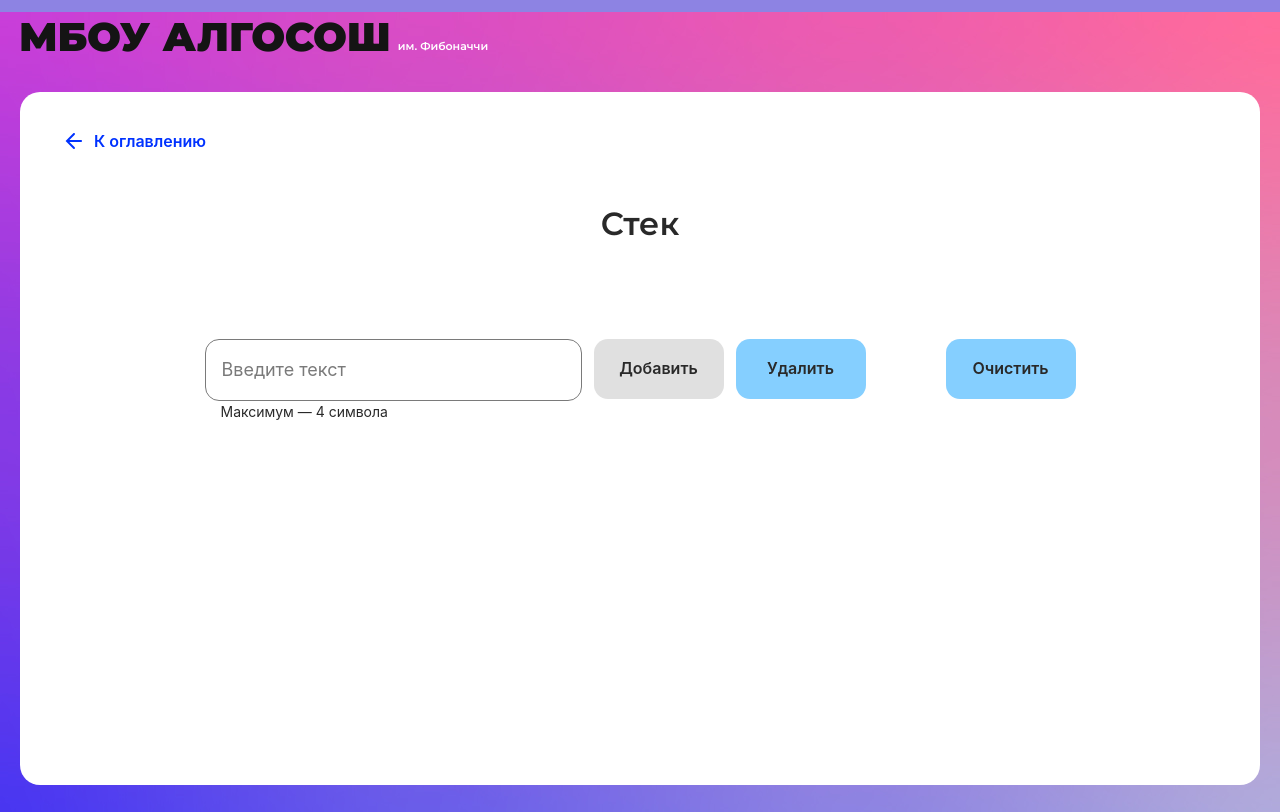
Test case: Stack Page › Проверка удаления элемента из стека
In the field with placeholder "Введите текст": (394, 370) [205,339,582,401], type "A"
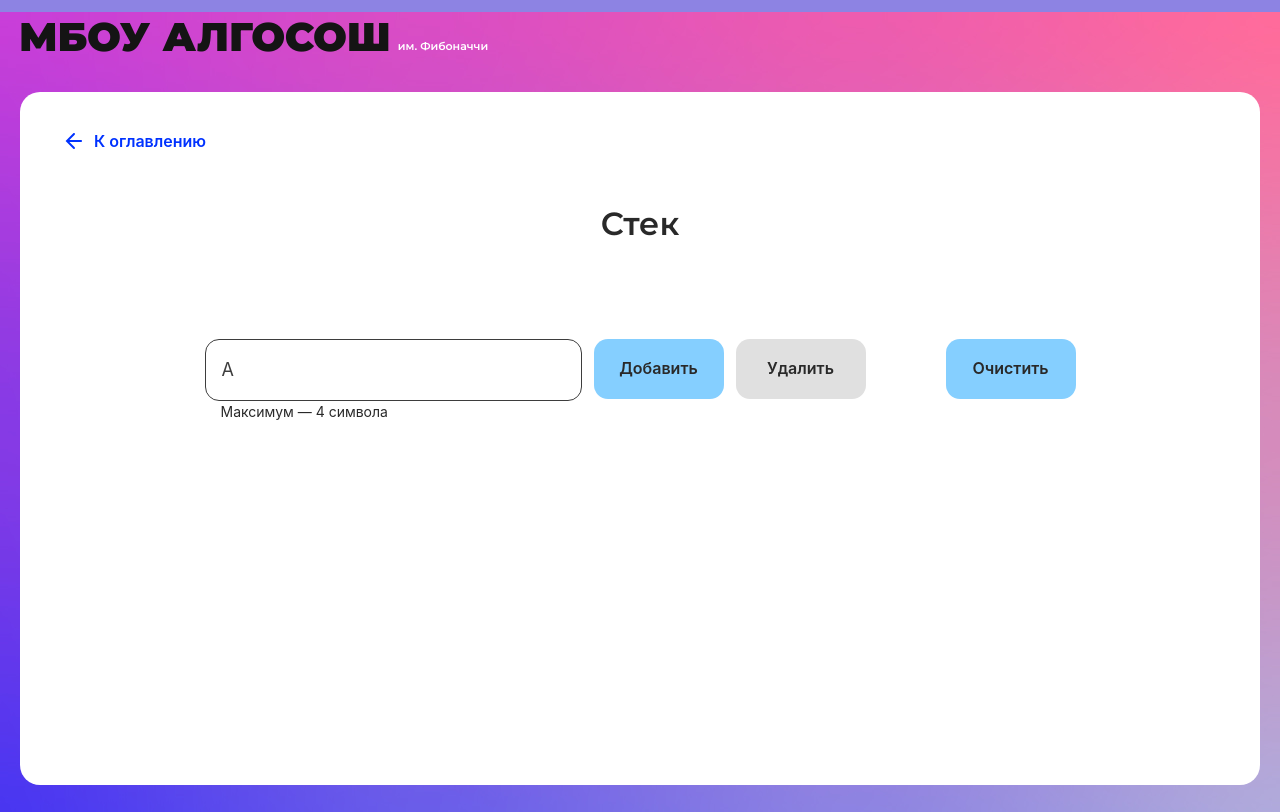
Click the button with test id "addToStack": (659, 369) [594,339,724,399]
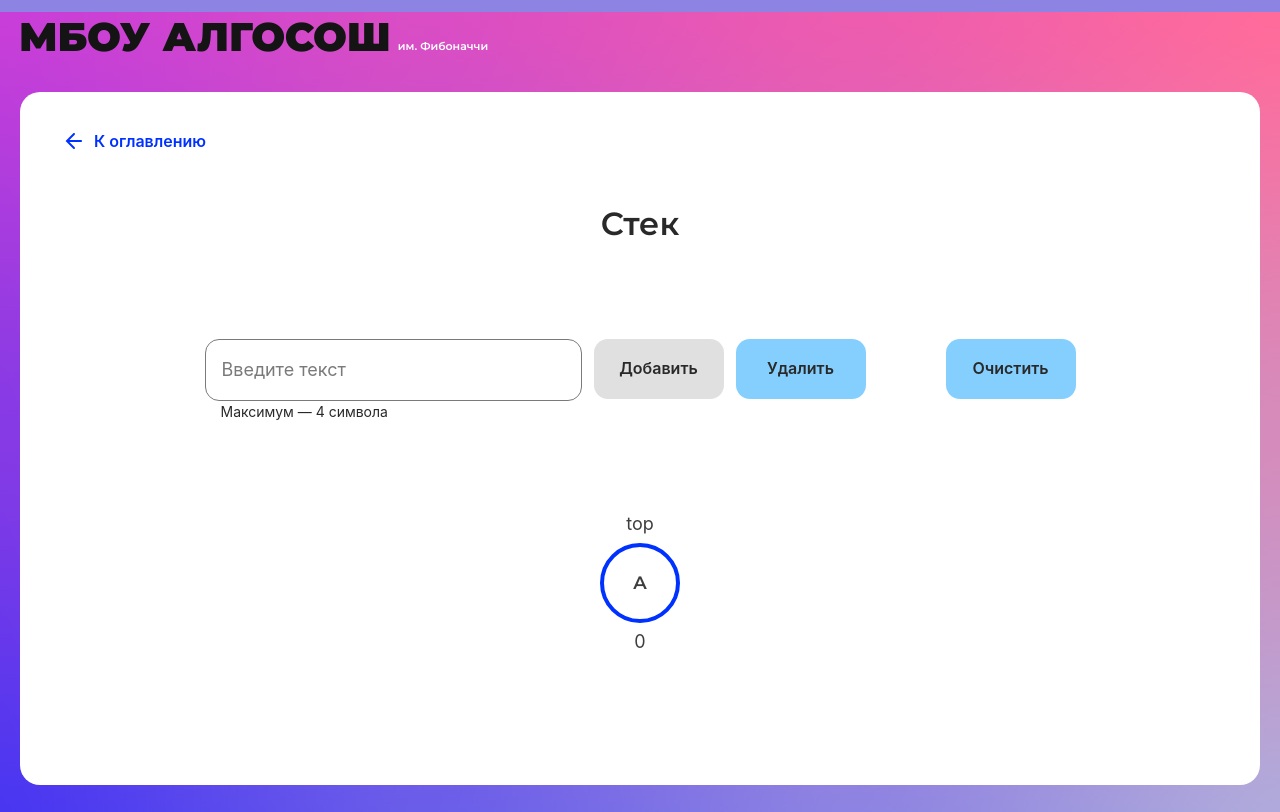
Click the button with test id "removeFromStack": (801, 369) [736,339,866,399]
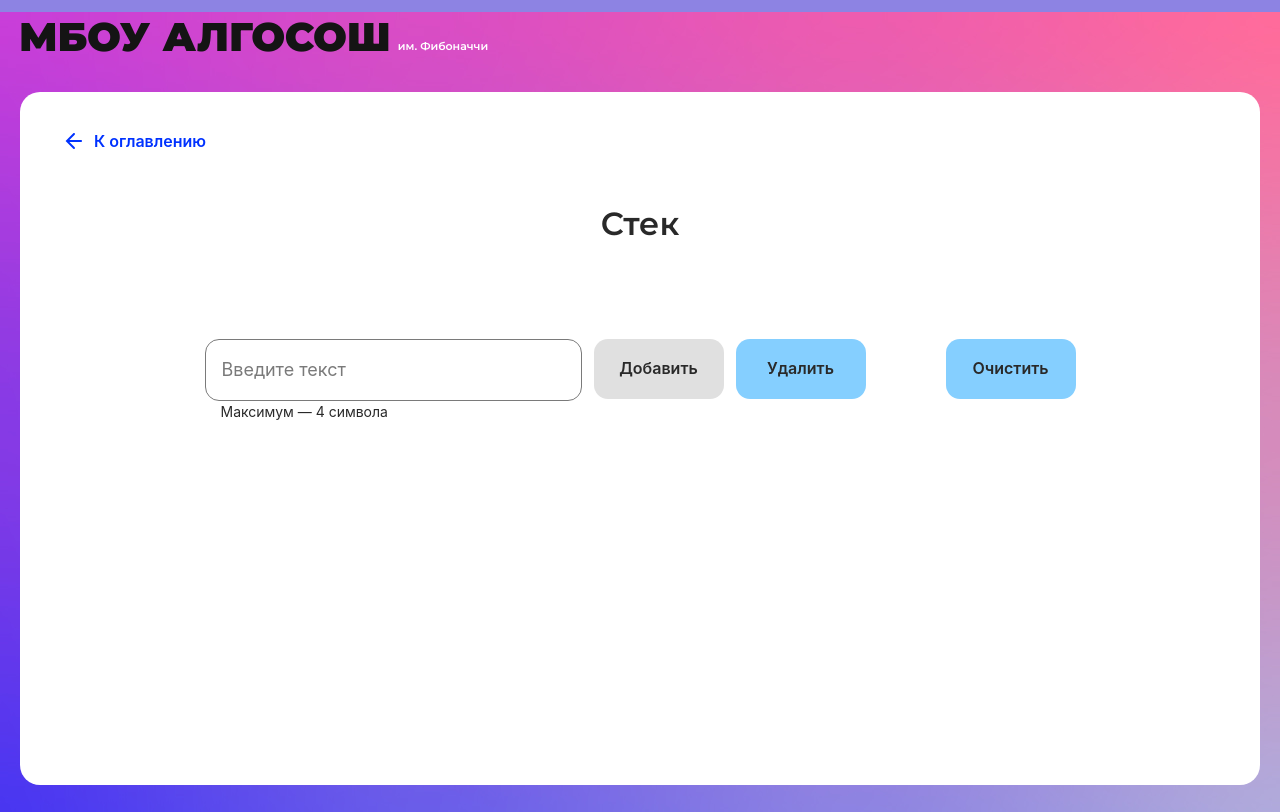
Now the text "A" is gone
